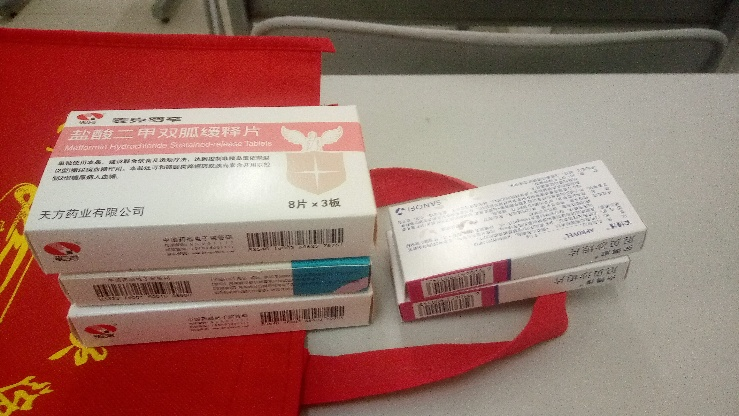pillbox: (44, 109, 374, 265), (389, 158, 650, 285), (59, 299, 375, 344), (396, 262, 629, 319), (57, 261, 370, 299)
